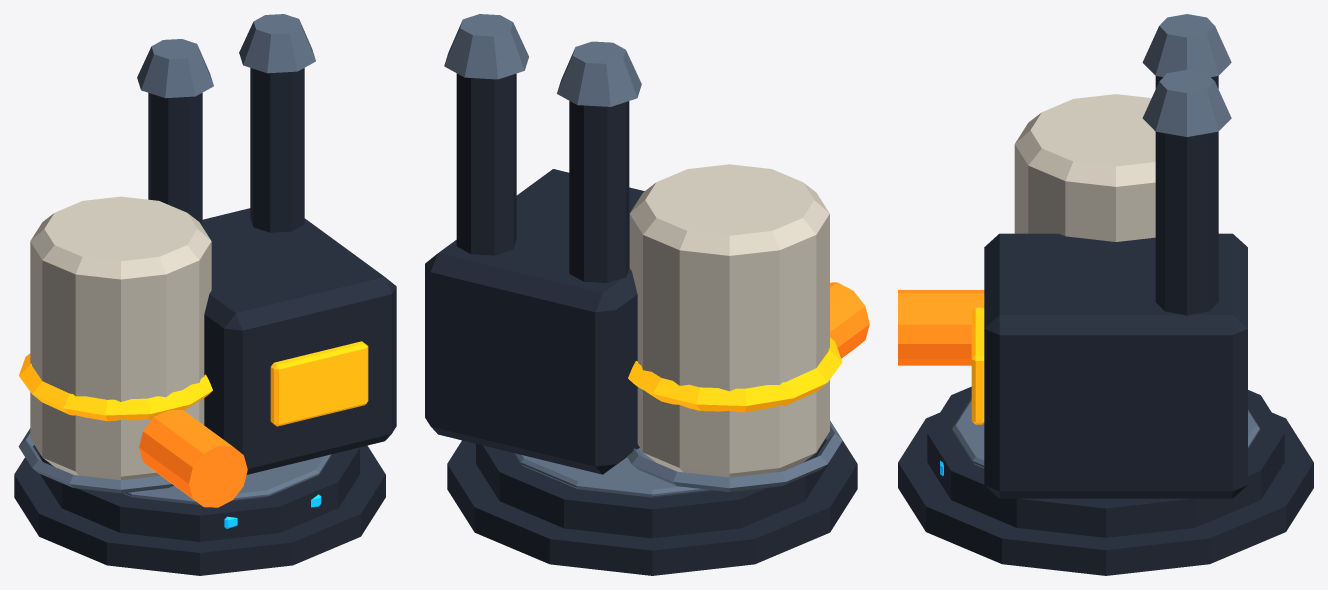
File: processor.glb
3 views of the same model, side by side, from view 1: azimuth 30°, elevation 25°; view 2: azimuth 150°, elevation 25°; view 3: azimuth 270°, elevation 25° (orthographic). The views are drawn at different scales.
Parts seen in each view (by area): view 1: Pressure vessel, Furnace housing, Plinth lower tier, Plinth upper tier, Refinery stack.001, Ore inlet, Molten output, Refinery stack, Vessel heat band, Stack crown.001, Stack crown, Plinth deck (+1 smaller); view 2: Pressure vessel, Furnace housing, Plinth lower tier, Plinth upper tier, Refinery stack.001, Refinery stack, Vessel heat band, Stack crown, Stack crown.001, Plinth deck, Hull collar, Ore inlet; view 3: Furnace housing, Plinth lower tier, Pressure vessel, Plinth upper tier, Refinery stack.001, Ore inlet, Stack crown.001, Stack crown, Molten output, Plinth deck.
Boxes of the visible parts, x1,y1,x2,y2 form: Pressure vessel: [30, 196, 211, 480]; Furnace housing: [202, 208, 396, 474]; Plinth lower tier: [14, 445, 385, 575]; Plinth upper tier: [40, 447, 359, 541]; Refinery stack.001: [250, 68, 304, 232]; Ore inlet: [139, 410, 247, 507]; Molten output: [270, 341, 368, 426]; Refinery stack: [148, 93, 202, 226]; Vessel heat band: [19, 353, 212, 421]; Stack crown.001: [239, 14, 315, 73]; Stack crown: [137, 39, 213, 98]; Plinth deck: [123, 454, 331, 504]; Pressure vessel: [629, 164, 829, 477]; Furnace housing: [425, 169, 644, 474]; Plinth lower tier: [447, 440, 857, 575]; Plinth upper tier: [476, 438, 828, 538]; Refinery stack.001: [456, 73, 516, 255]; Refinery stack: [569, 101, 629, 282]; Vessel heat band: [628, 337, 842, 412]; Stack crown: [557, 41, 641, 106]; Stack crown.001: [444, 14, 528, 79]; Plinth deck: [514, 448, 714, 497]; Hull collar: [627, 420, 842, 491]; Ore inlet: [830, 282, 869, 358]; Furnace housing: [984, 233, 1247, 498]; Plinth lower tier: [898, 412, 1313, 575]; Pressure vessel: [1014, 94, 1155, 241]; Plinth upper tier: [927, 386, 1284, 537]; Refinery stack.001: [1155, 131, 1218, 315]; Ore inlet: [898, 290, 984, 365]; Stack crown.001: [1142, 69, 1231, 136]; Stack crown: [1142, 14, 1231, 76]; Molten output: [971, 307, 984, 424]; Plinth deck: [952, 398, 1259, 468].
Size of the model in its own units: 0.826 by 1.02 by 0.82.
